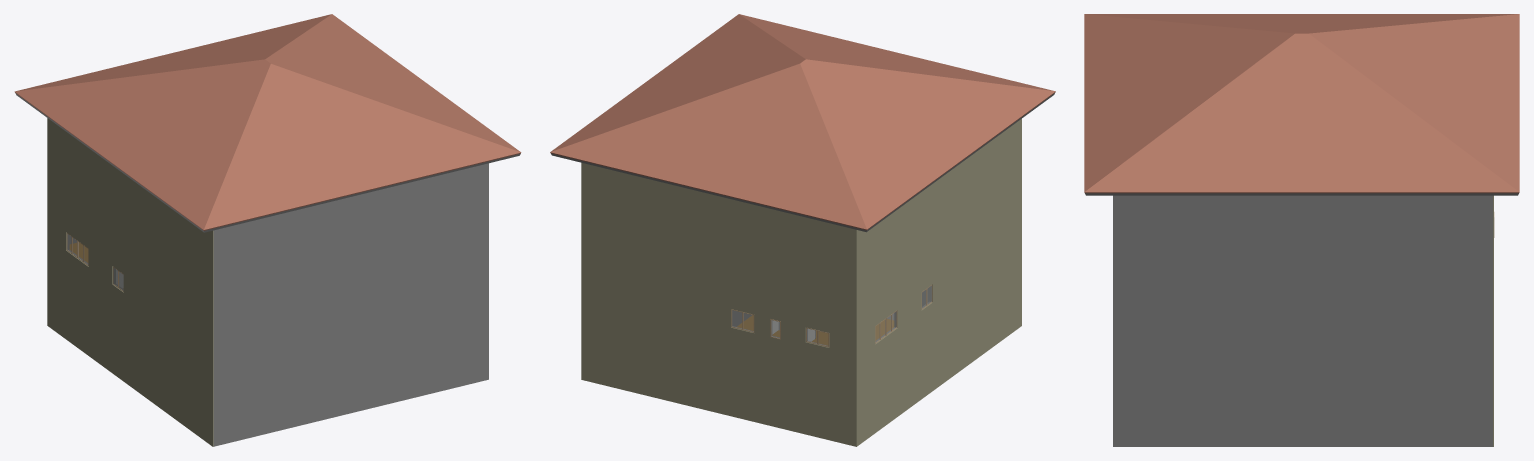
Rendered from Apartment.obj.
The picture shows the model from 3 angles, left to right: view 1: azimuth 30°, elevation 25°; view 2: azimuth 150°, elevation 25°; view 3: azimuth 270°, elevation 25°; orthographic projection. The views are drawn at different scales.
Visible parts, largest first — view 1: SHELL_-_ROOF PAINT_-_PEACH, SHELL_-_GENERAL PAINT_-_LIGHT_GRAY, STRUCTURAL_-_BEARING PAINT_-_SAND_BEIGE, SHELL_-_GENERAL PAINT_-_SAND_BEIGE, SHELL_-_ROOF PAINT_-_LIGHT_GRAY, STRUCTURAL_-_BEARING PAINT_-_LIGHT_GRAY, STRUCTURAL_-_BEARING GLASS_-_CLEAR_FAST; view 2: SHELL_-_GENERAL PAINT_-_SAND_BEIGE, SHELL_-_ROOF PAINT_-_PEACH, STRUCTURAL_-_BEARING PAINT_-_SAND_BEIGE, STRUCTURAL_-_BEARING GLASS_-_CLEAR_FAST, SHELL_-_ROOF PAINT_-_LIGHT_GRAY, STRUCTURAL_-_BEARING WOOD_-_PINE_GRAINED_HORIZONTAL, STRUCTURAL_-_BEARING PAINT_-_GOLDEN_OCHRE, STRUCTURAL_-_BEARING PAINT_-_LIGHT_GRAY; view 3: SHELL_-_GENERAL PAINT_-_LIGHT_GRAY, SHELL_-_ROOF PAINT_-_PEACH, SHELL_-_ROOF PAINT_-_LIGHT_GRAY.
Boxes of the visible parts, <box> form: SHELL_-_ROOF PAINT_-_PEACH: <box>14,14,521,230</box>; SHELL_-_GENERAL PAINT_-_LIGHT_GRAY: <box>216,163,488,445</box>; STRUCTURAL_-_BEARING PAINT_-_SAND_BEIGE: <box>47,178,213,446</box>; SHELL_-_GENERAL PAINT_-_SAND_BEIGE: <box>47,118,129,385</box>; SHELL_-_ROOF PAINT_-_LIGHT_GRAY: <box>15,93,520,232</box>; STRUCTURAL_-_BEARING PAINT_-_LIGHT_GRAY: <box>67,230,216,446</box>; STRUCTURAL_-_BEARING GLASS_-_CLEAR_FAST: <box>67,233,123,290</box>; SHELL_-_GENERAL PAINT_-_SAND_BEIGE: <box>581,162,938,446</box>; SHELL_-_ROOF PAINT_-_PEACH: <box>550,14,1055,230</box>; STRUCTURAL_-_BEARING PAINT_-_SAND_BEIGE: <box>719,119,1021,386</box>; STRUCTURAL_-_BEARING GLASS_-_CLEAR_FAST: <box>732,286,931,346</box>; SHELL_-_ROOF PAINT_-_LIGHT_GRAY: <box>551,93,1054,232</box>; STRUCTURAL_-_BEARING WOOD_-_PINE_GRAINED_HORIZONTAL: <box>731,284,932,347</box>; STRUCTURAL_-_BEARING PAINT_-_GOLDEN_OCHRE: <box>737,315,894,345</box>; STRUCTURAL_-_BEARING PAINT_-_LIGHT_GRAY: <box>732,286,930,345</box>; SHELL_-_GENERAL PAINT_-_LIGHT_GRAY: <box>1113,195,1492,446</box>; SHELL_-_ROOF PAINT_-_PEACH: <box>1084,14,1519,193</box>; SHELL_-_ROOF PAINT_-_LIGHT_GRAY: <box>1085,193,1518,195</box>.
Bounding box in the file's own units: 26919 × 23627 × 27776.
